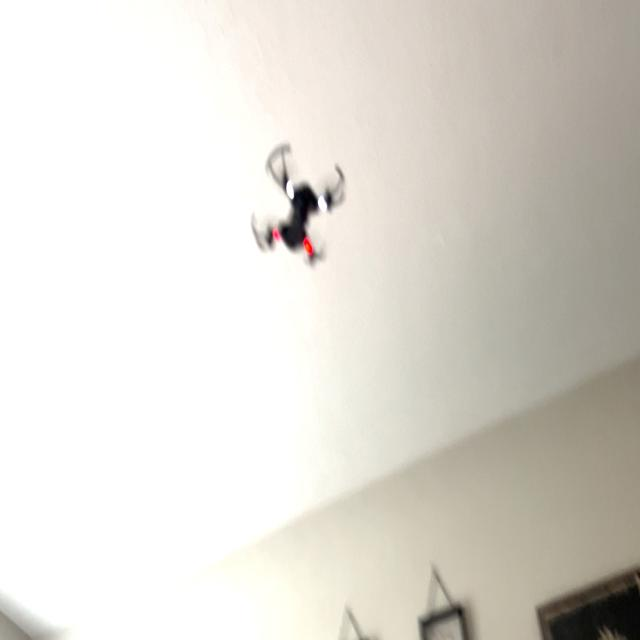drone: (242, 124, 356, 276)
